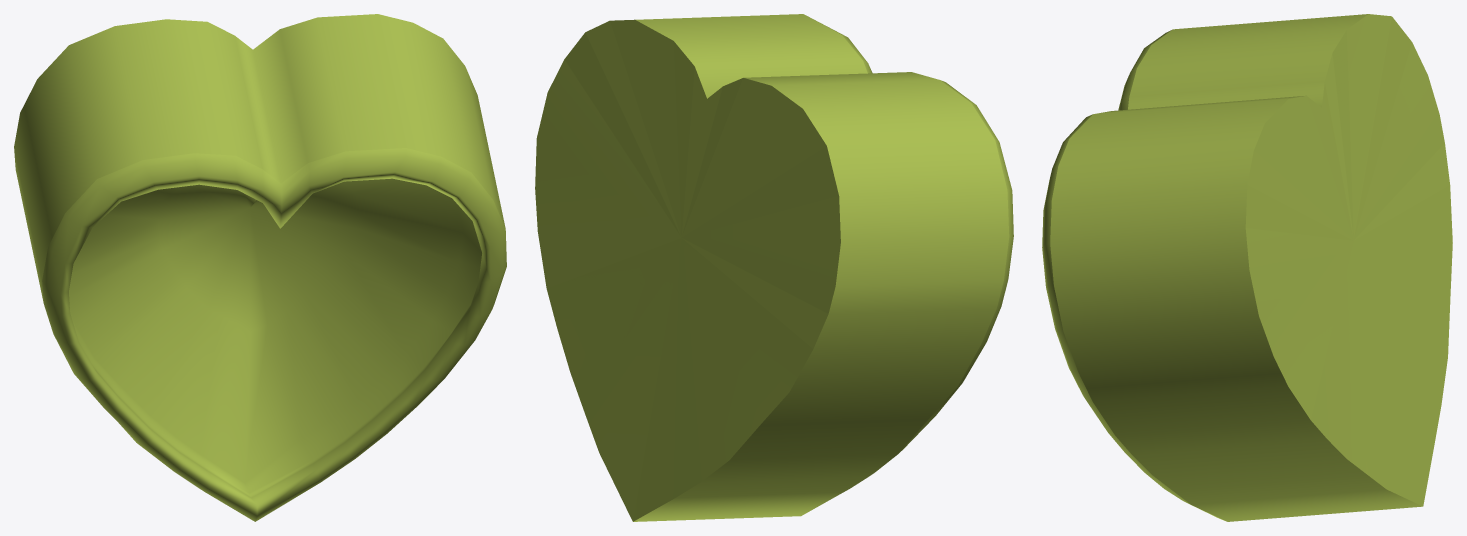
Rendered from BL2_8shapes_heart_Classic_Metal.001 3.glb.
3 views of the same model, side by side, from view 1: azimuth 30°, elevation 25°; view 2: azimuth 150°, elevation 25°; view 3: azimuth 270°, elevation 25° (orthographic). The views are drawn at different scales.
Parts seen in each view (by area): view 1: BL2_8shapes_heart_Classic_Metal.001; view 2: BL2_8shapes_heart_Classic_Metal.001; view 3: BL2_8shapes_heart_Classic_Metal.001.
Boxes of the visible parts, x1,y1,x2,y2 form: BL2_8shapes_heart_Classic_Metal.001: [14, 14, 506, 521]; BL2_8shapes_heart_Classic_Metal.001: [535, 14, 1013, 521]; BL2_8shapes_heart_Classic_Metal.001: [1042, 14, 1452, 521].
Bounding box in the file's own units: 0.5101 × 0.511 × 0.3983.
